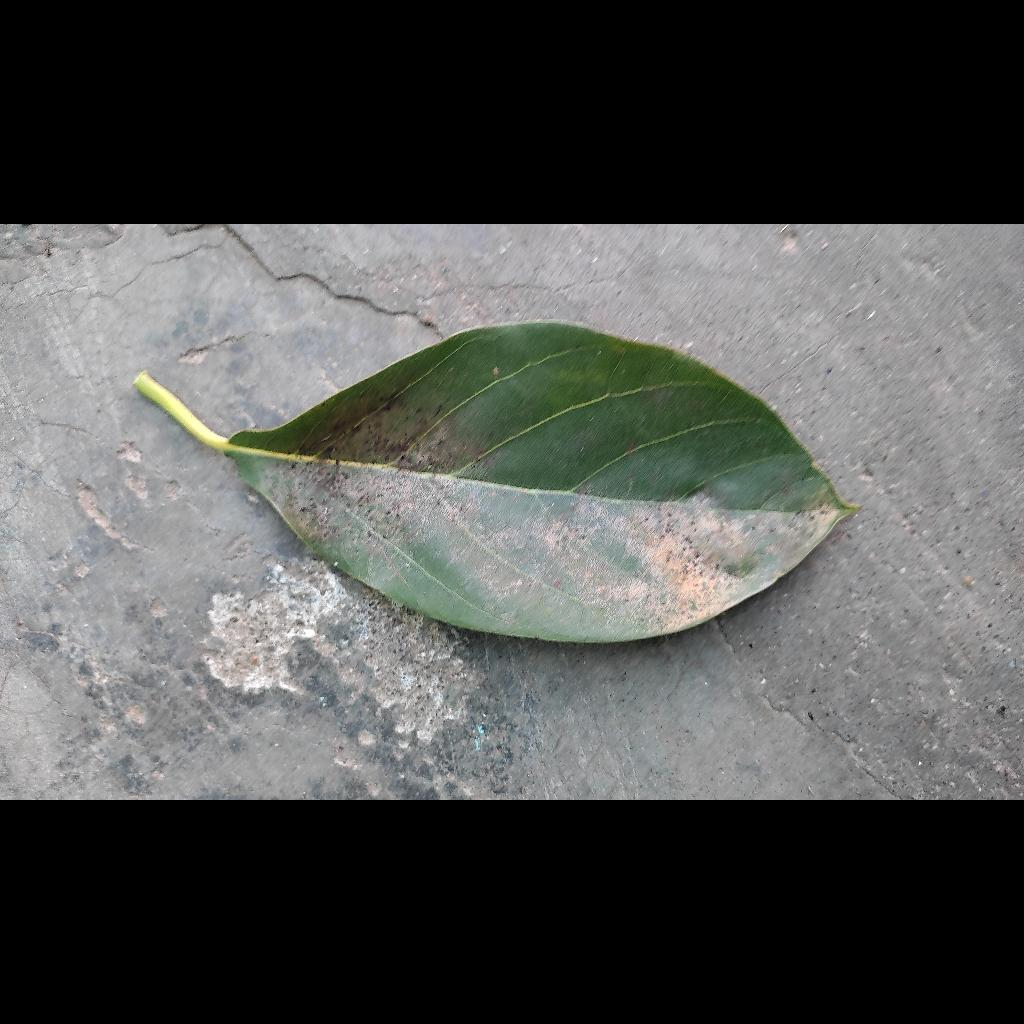antracnosis_hoja: (170, 382, 884, 701)
